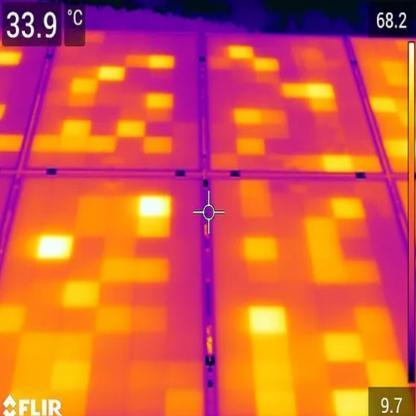anomaly: (327, 313, 403, 416), (59, 263, 173, 327), (12, 330, 91, 416), (303, 203, 378, 286), (243, 308, 296, 416), (32, 122, 116, 156), (231, 107, 282, 161), (122, 94, 171, 150), (119, 193, 174, 240), (374, 93, 409, 156), (70, 64, 126, 100), (238, 231, 286, 267), (303, 153, 382, 174), (29, 231, 75, 267), (221, 47, 280, 75), (281, 83, 341, 109), (142, 52, 181, 72), (0, 45, 22, 66)
